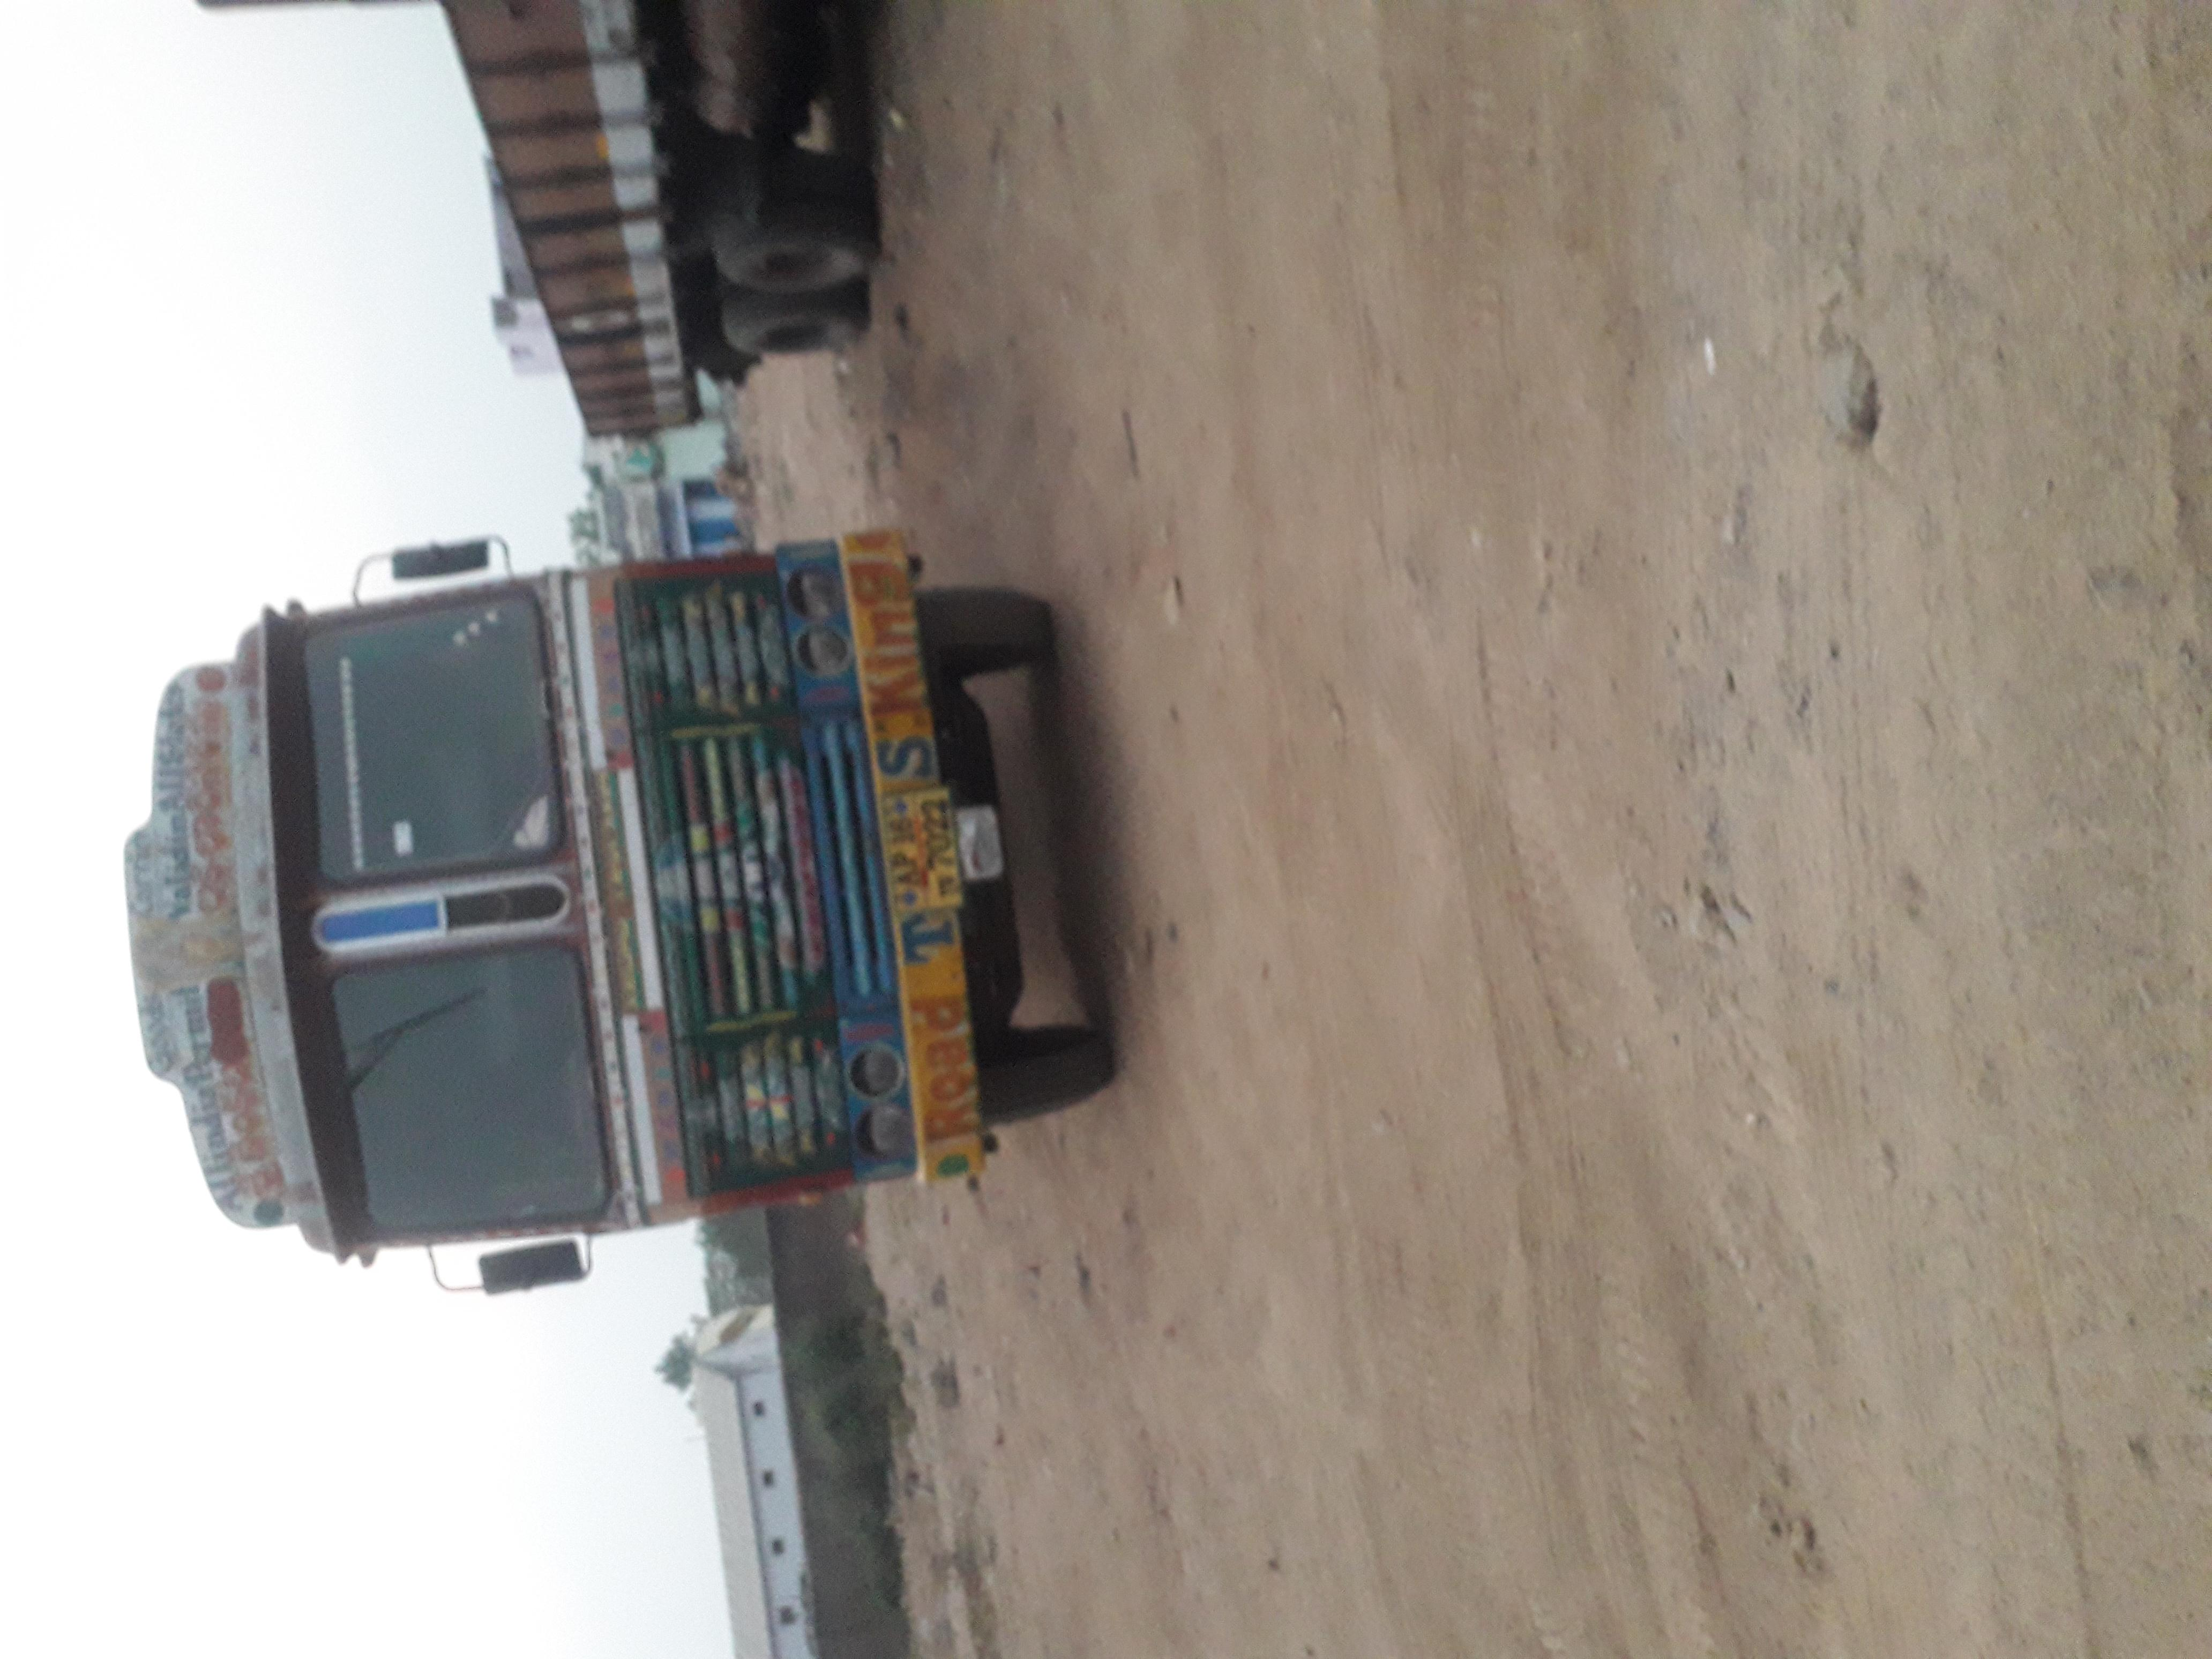Truck: (465, 110, 1597, 945)
